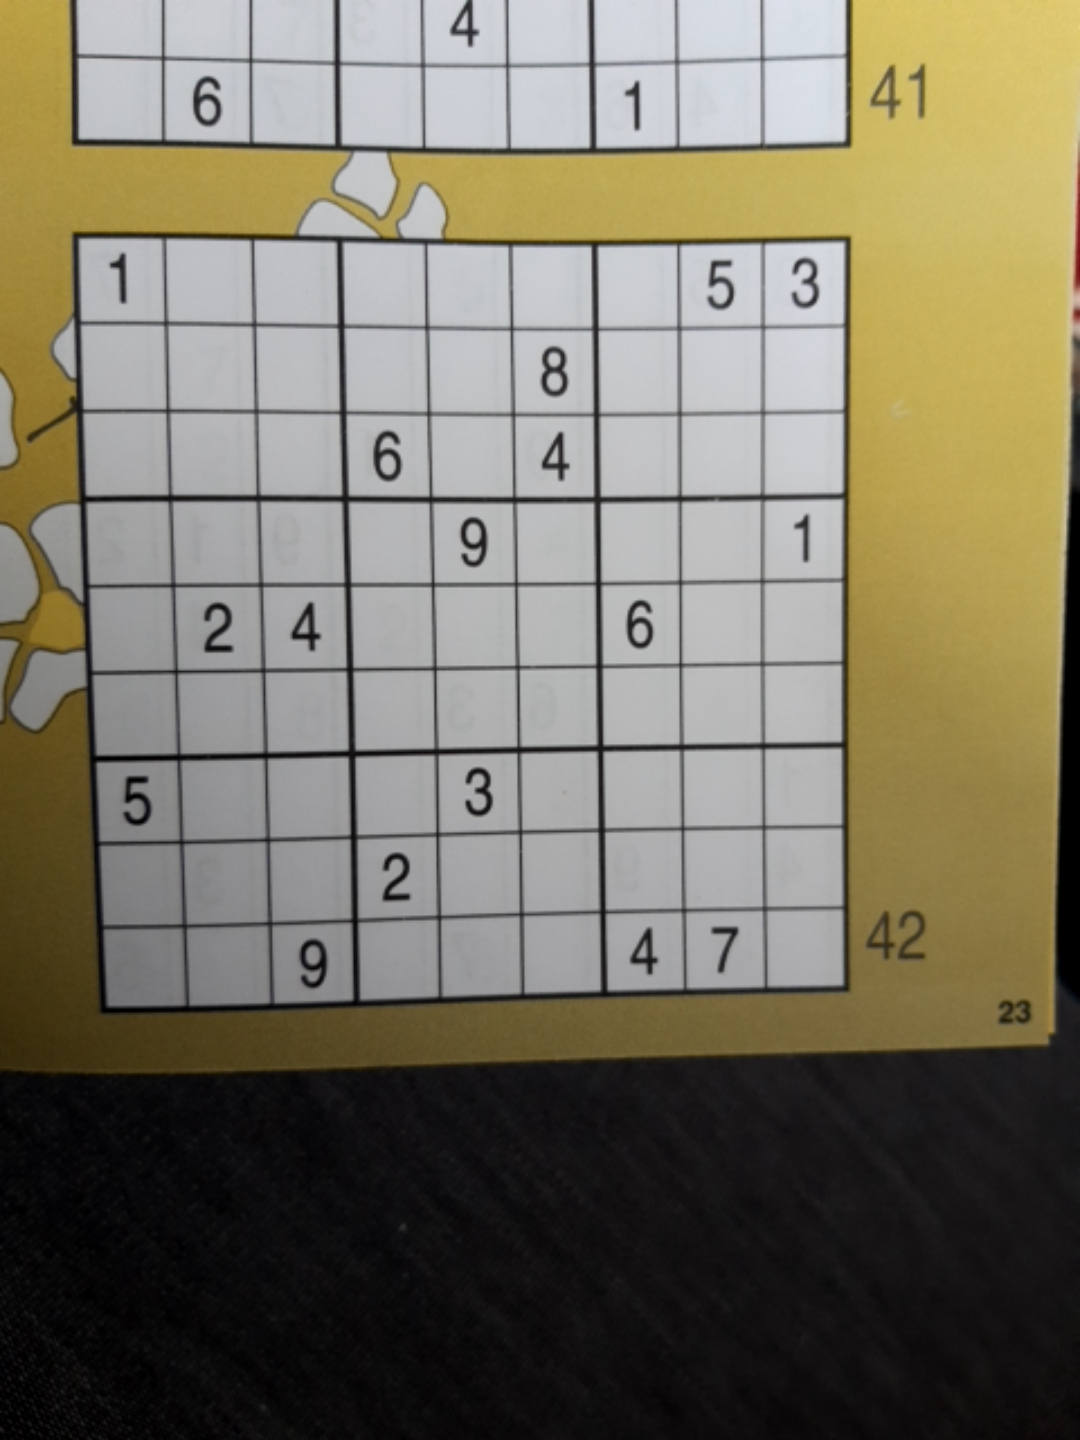sudoku: (69, 229, 854, 1016)
